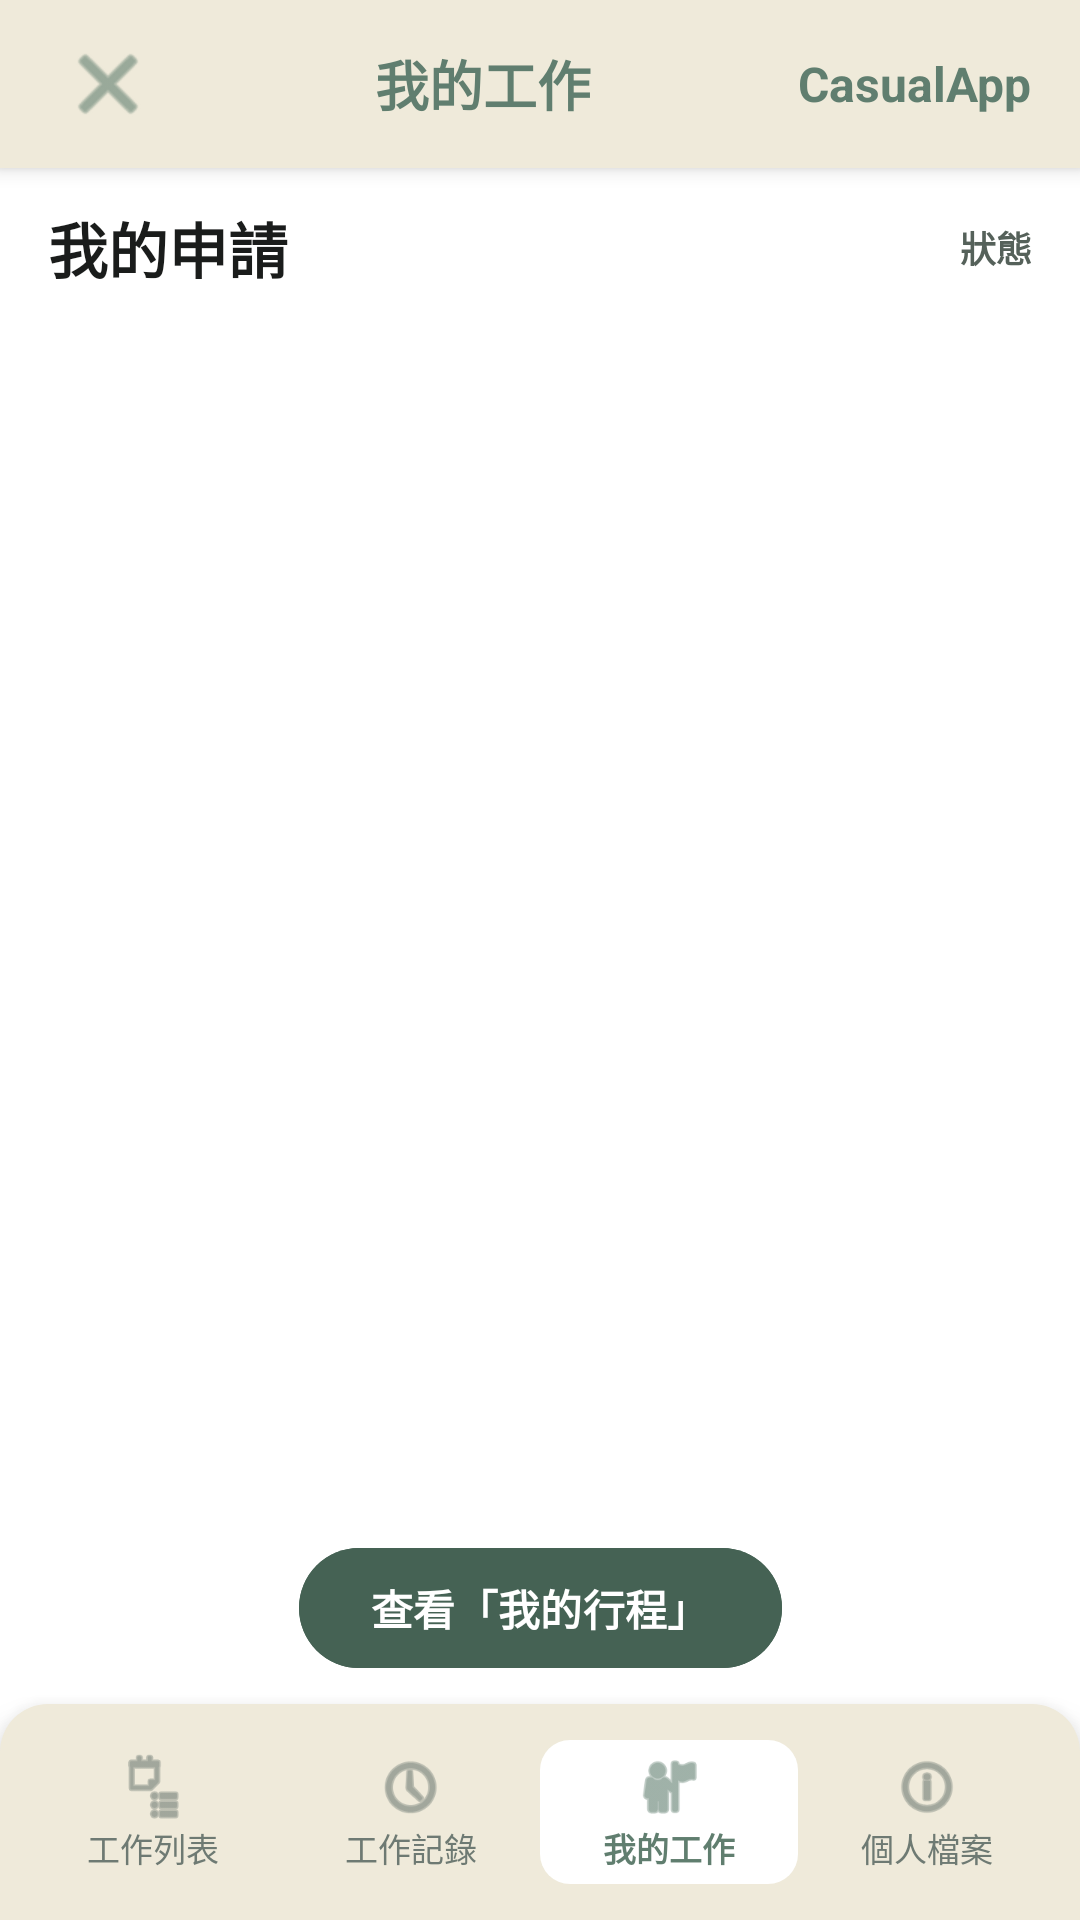

Icon click points for this 1080w x 1920h phone screenshot, format (x=x, y=y):
agenda: (x=153, y=1787)
close clear cancel: (x=108, y=84)
info details: (x=927, y=1787)
myplaces: (x=670, y=1787)
recent history: (x=411, y=1787)
